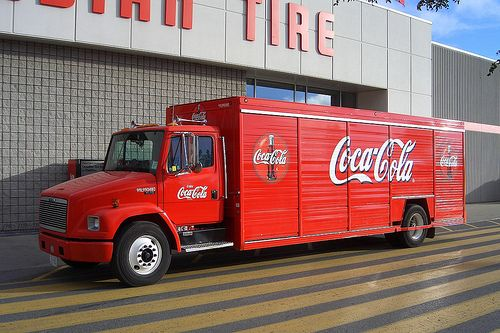truck: (37, 94, 468, 285)
